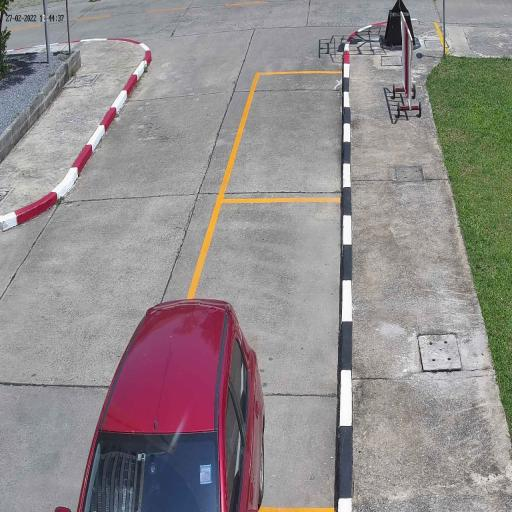car: (76, 297, 266, 512)
